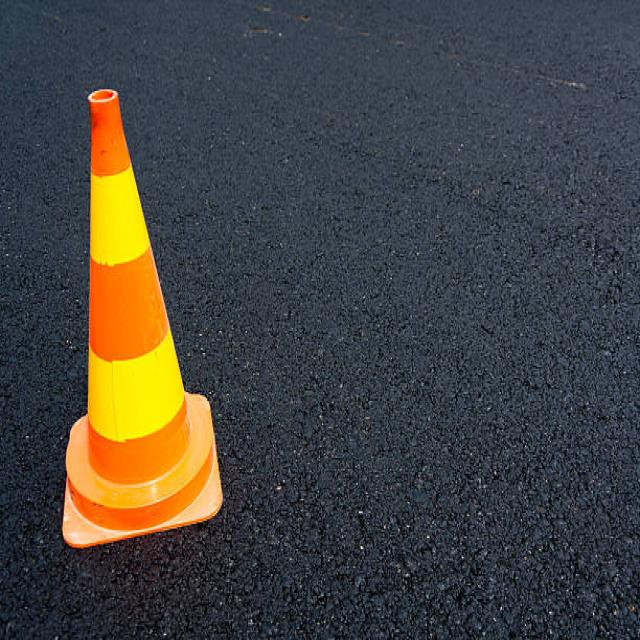Traffic Cone: (29, 21, 248, 572)
